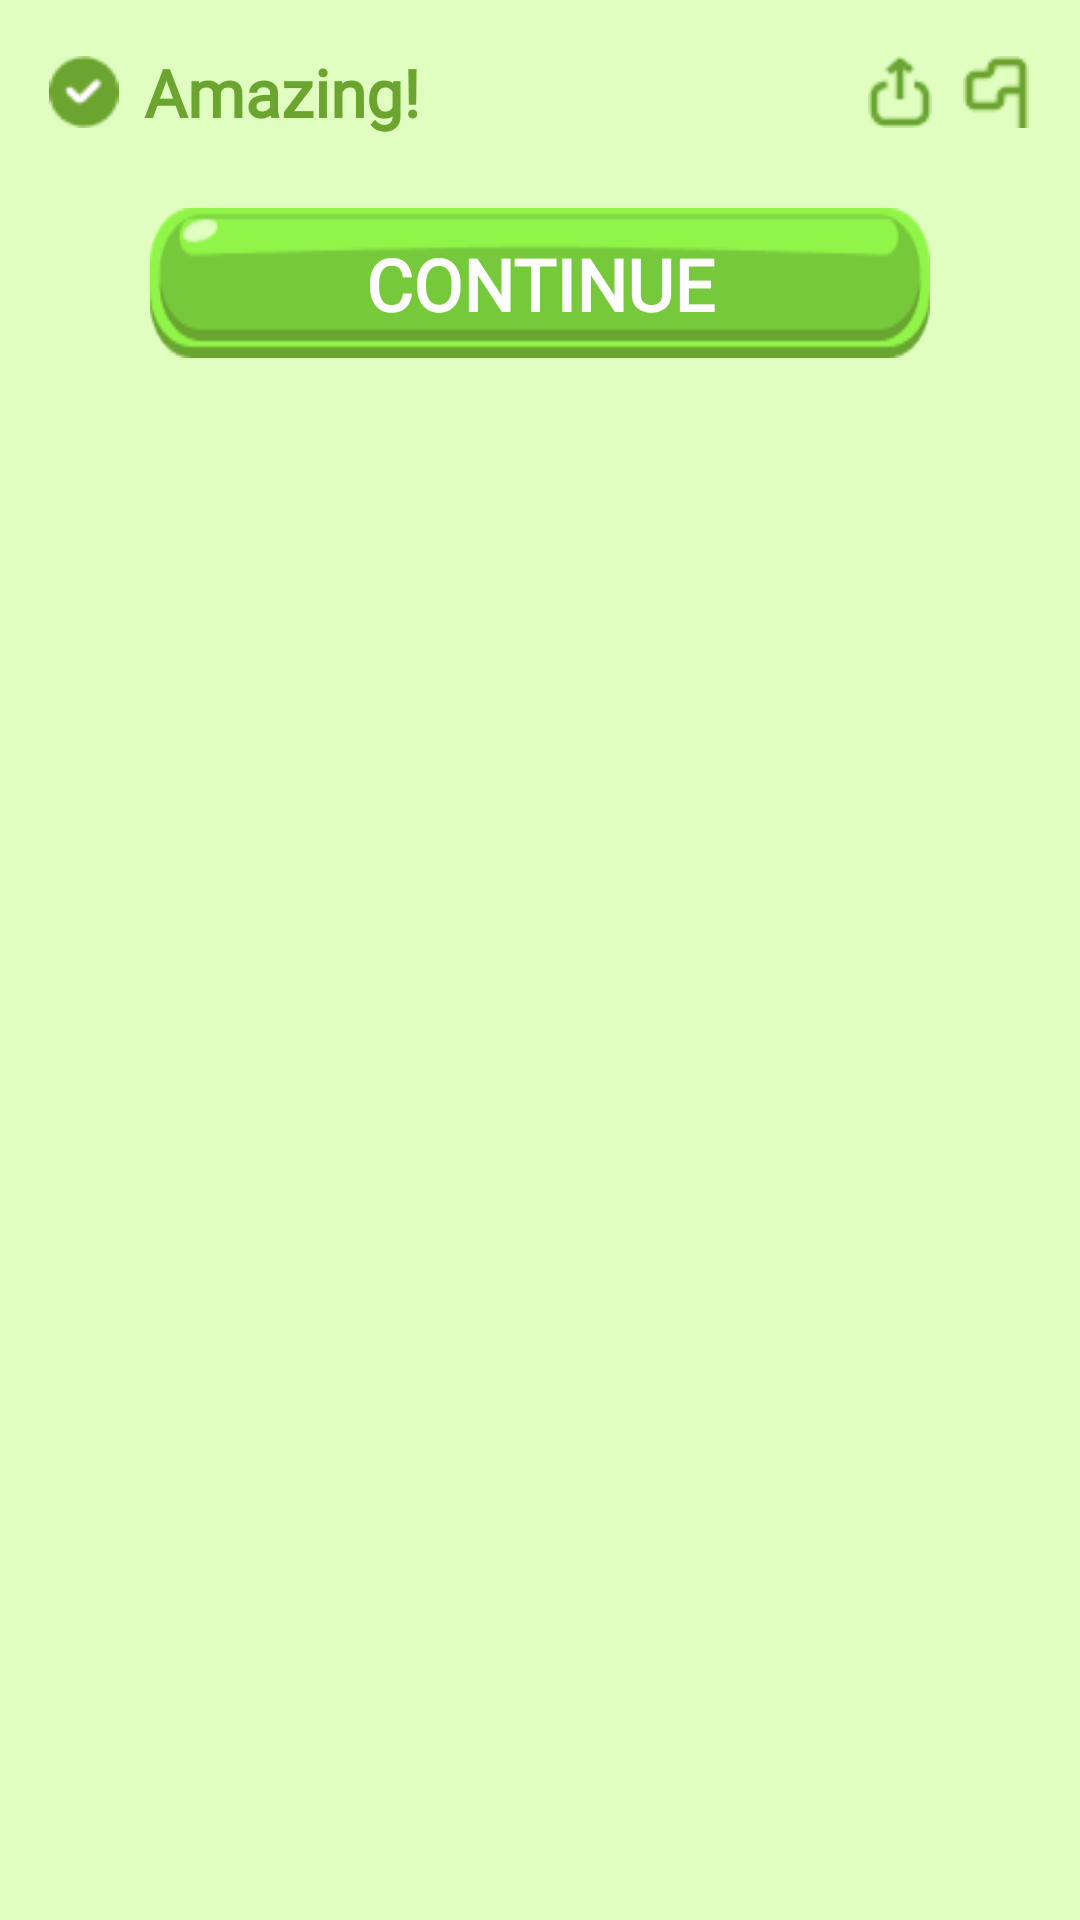

Screen size 1080px×1920px. Icon name, then its center in pixels as (x,y):
correct: (84,92)
report: (996,92)
share: (900,92)
